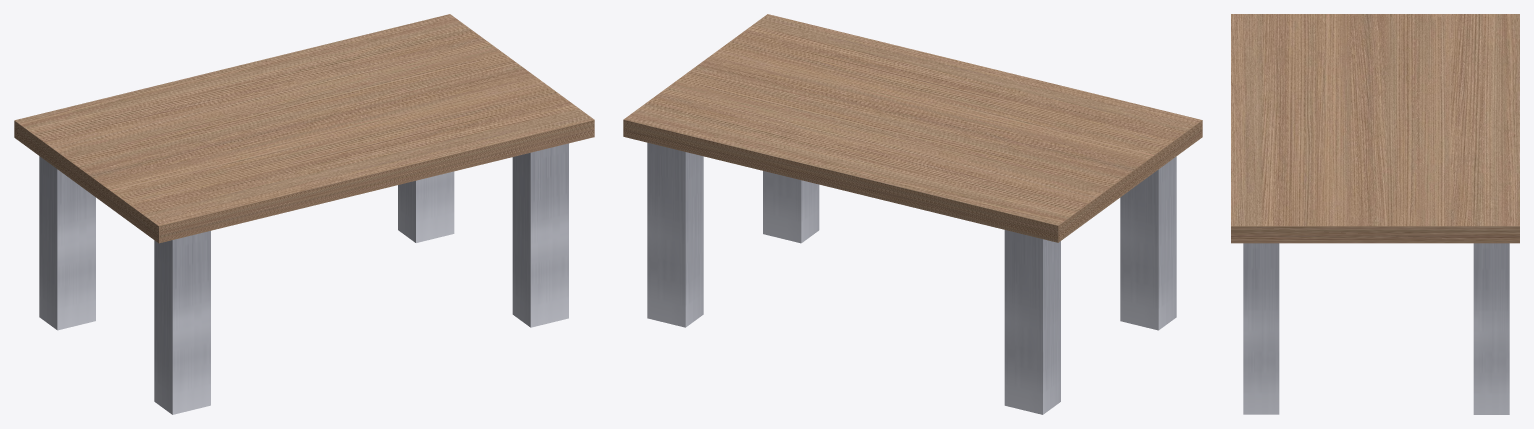
The picture shows the model from 3 angles, left to right: view 1: azimuth 30°, elevation 25°; view 2: azimuth 150°, elevation 25°; view 3: azimuth 270°, elevation 25°; orthographic projection.
Parts seen in each view (by area): view 1: Cube, 立方体.002, 立方体.003, 立方体.001, 立方体; view 2: Cube, 立方体.001, 立方体, 立方体.002, 立方体.003; view 3: Cube, 立方体, 立方体.003.
Part boxes in pixels (x1,y1,x2,y2): Cube: (14, 14, 594, 243); 立方体.002: (154, 231, 210, 414); 立方体.003: (512, 143, 568, 327); 立方体.001: (39, 156, 95, 330); 立方体: (398, 171, 454, 242); Cube: (623, 14, 1202, 242); 立方体.001: (1004, 230, 1060, 414); 立方体: (647, 142, 703, 327); 立方体.002: (1120, 156, 1176, 330); 立方体.003: (763, 171, 819, 243); Cube: (1231, 14, 1519, 243); 立方体: (1473, 243, 1509, 414); 立方体.003: (1243, 243, 1279, 414).
Bounding box in the file's own units: 200 × 86.93 × 115.
